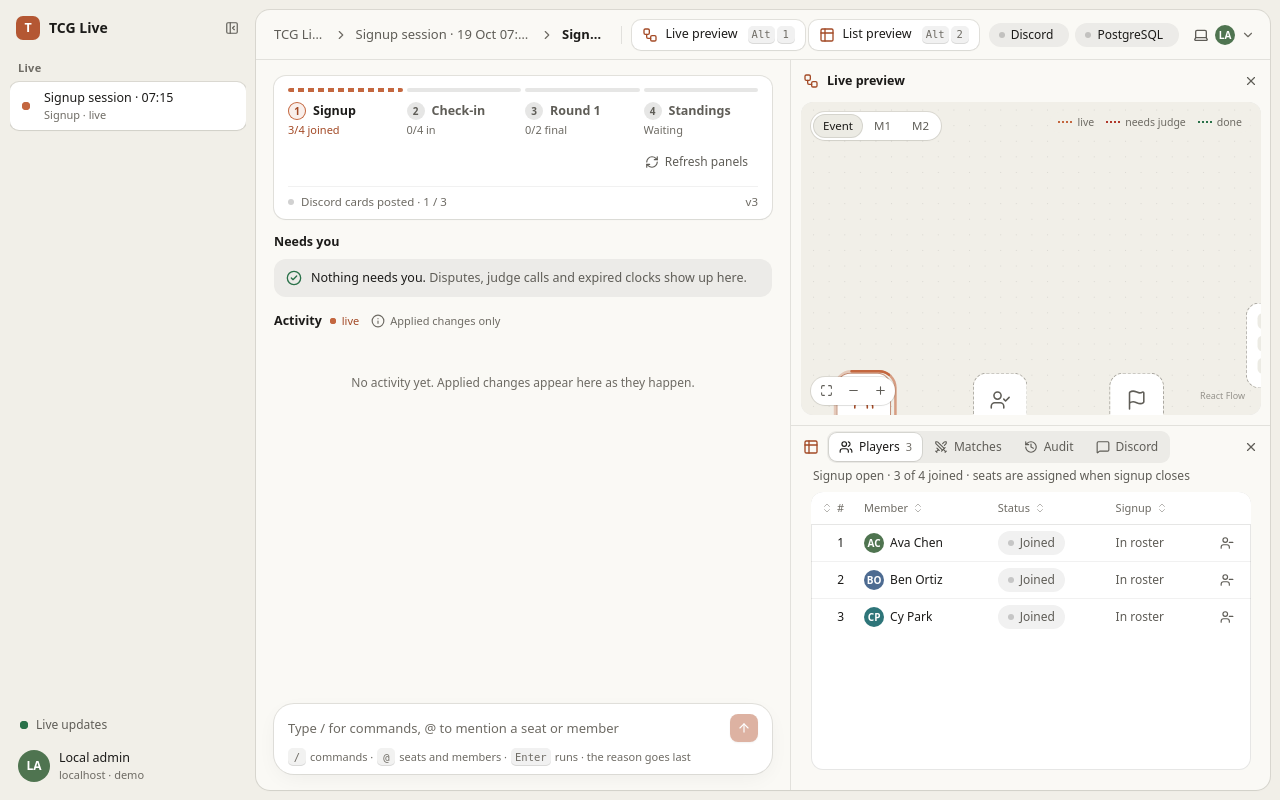
it: players remove › confirms, then removes the member with the signup precondition
Expected: the table named "Signup roster" is shown, x1=811 y1=492 x2=1251 y2=634
Click the button named "Remove Cy Park from the signup": (1227, 616) x1=1213 y1=602 x2=1241 y2=630
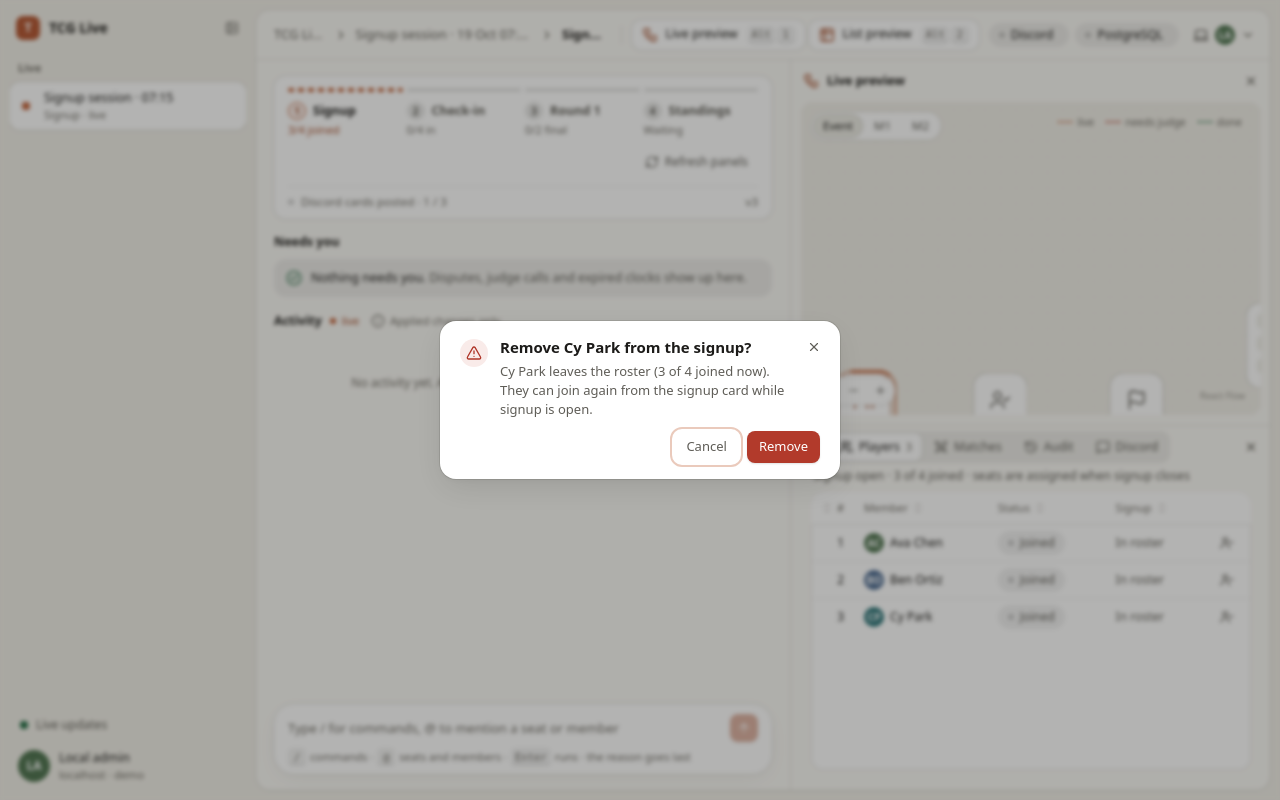
Click the button "Remove": (783, 447) x1=747 y1=431 x2=820 y2=463
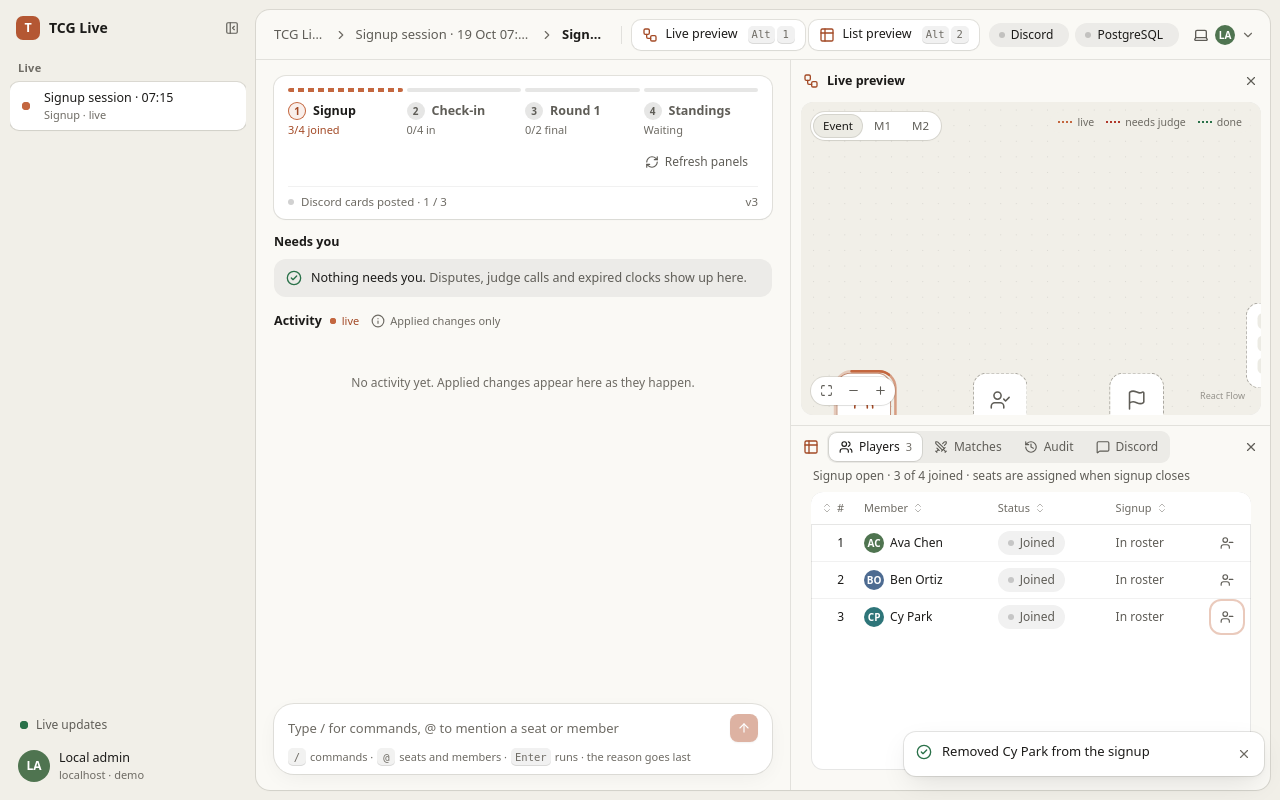
Now the text "Removed Cy Park from the signup" is shown, box x1=942 y1=742 x2=1150 y2=760
